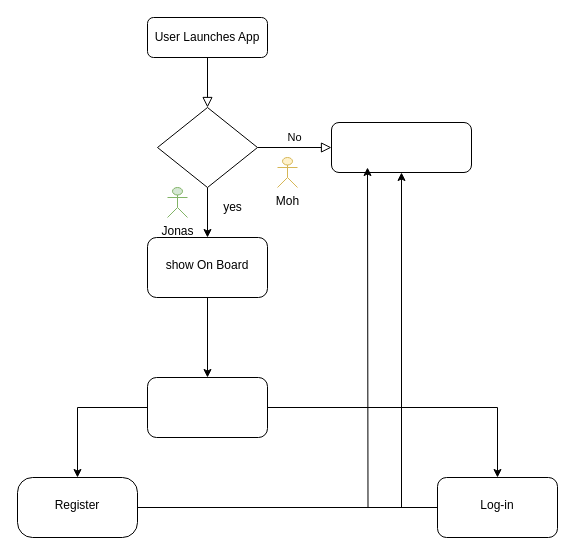
This 575x555 diagram has some shape labels left out. The box of each missing label's shape, as (x1, y1, x2, y2) in pixels:
New User?: (156, 106, 258, 188)
show Log-In screen: (146, 376, 268, 438)
Show OSM Map: (330, 122, 472, 172)
